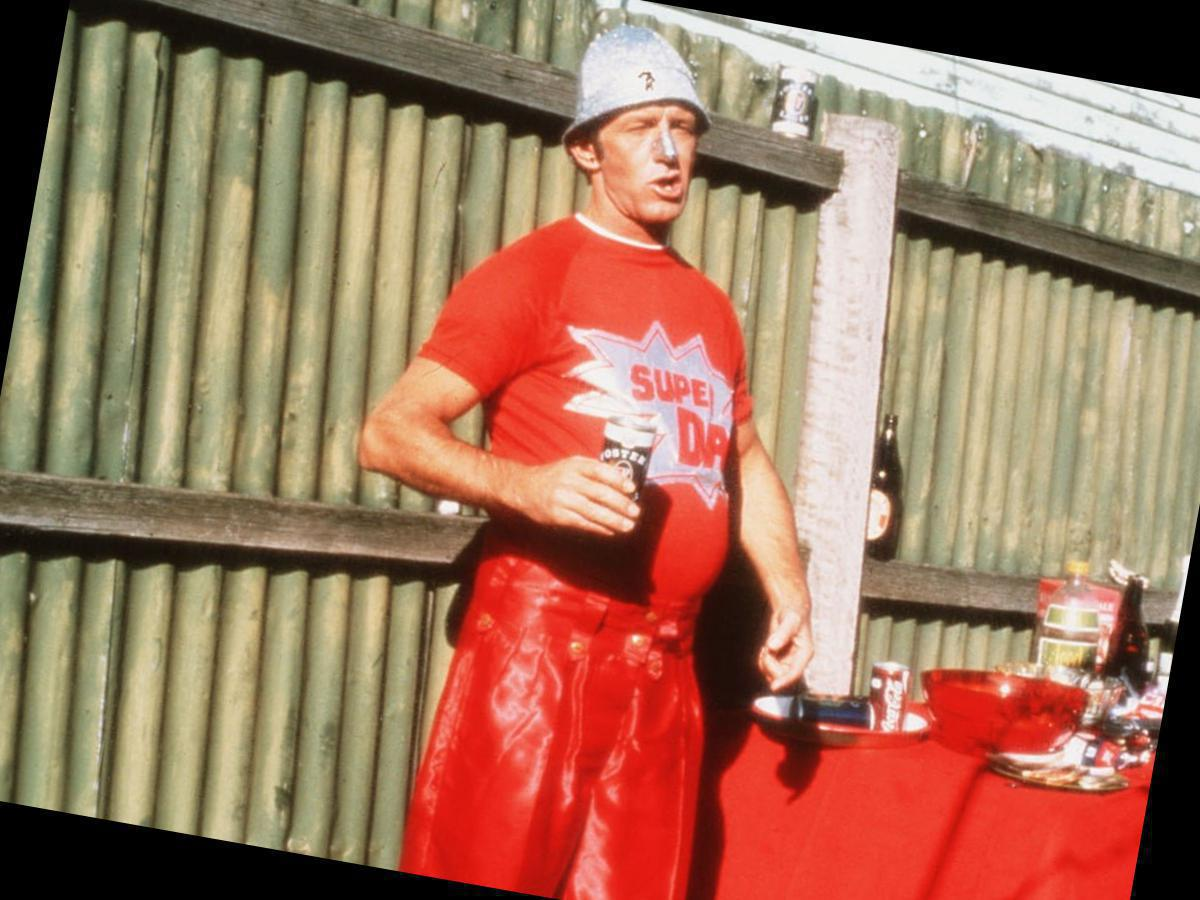Drunk: (619, 106, 692, 219)
